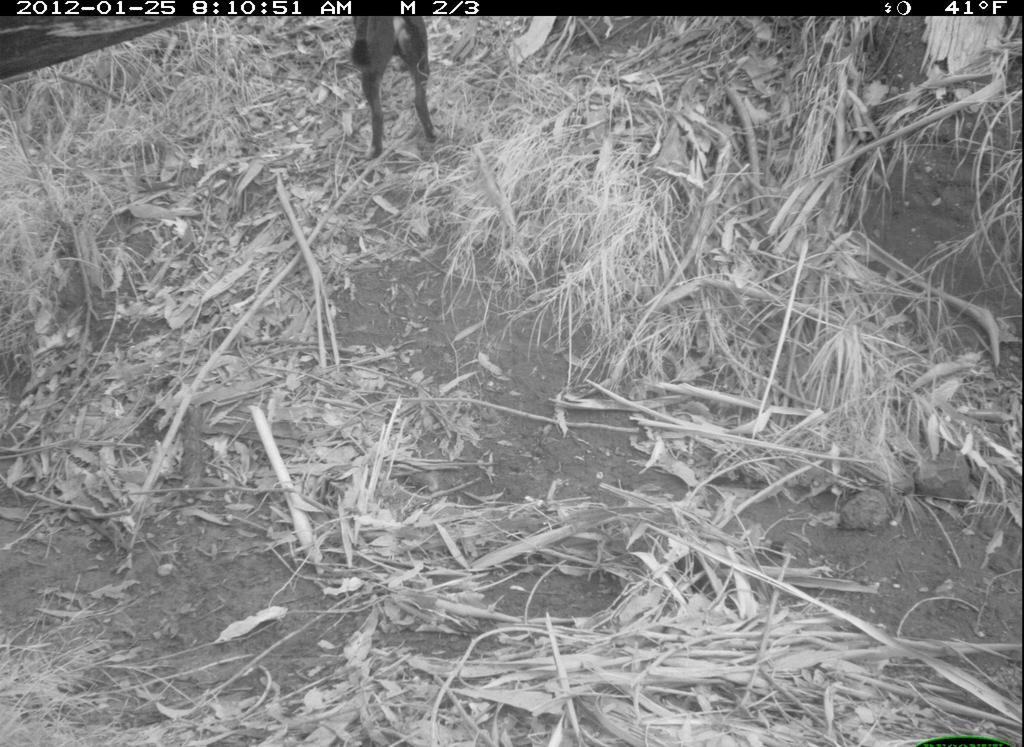dog: (340, 15, 455, 162)
